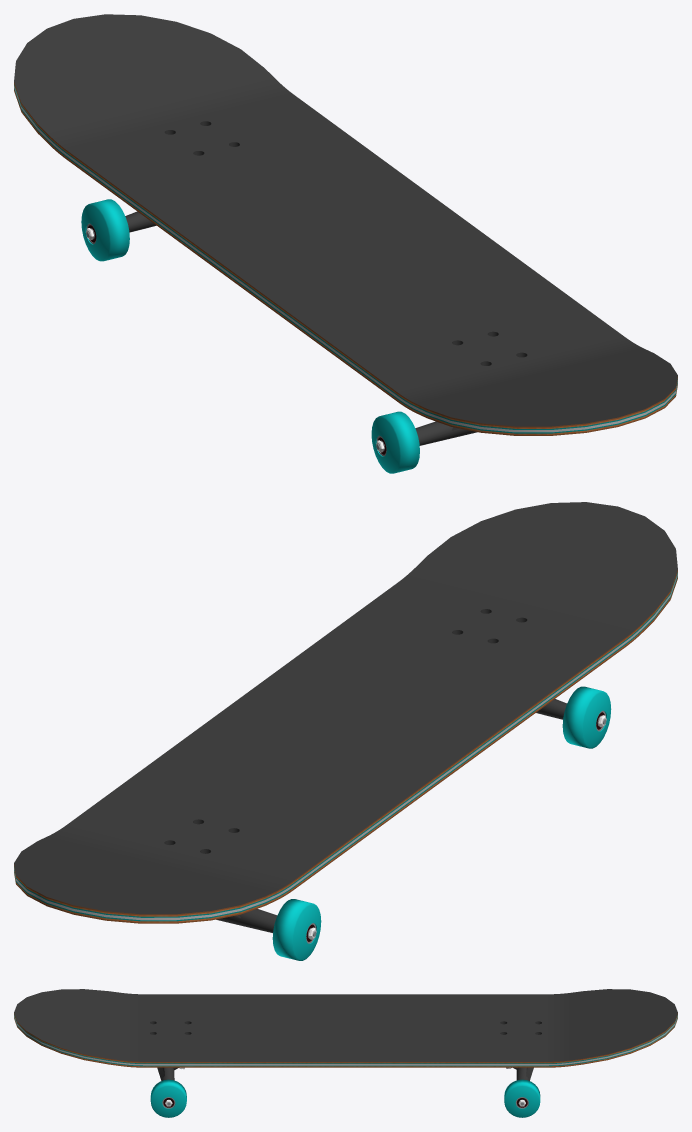
3 views of the same model, one above another, from view 1: azimuth 30°, elevation 25°; view 2: azimuth 150°, elevation 25°; view 3: azimuth 270°, elevation 25° (orthographic). The views are drawn at different scales.
Visible parts, largest first — view 1: Mesh1_Component_41_1_Component_42_1_Component_43_1_Model; view 2: Mesh1_Component_41_1_Component_42_1_Component_43_1_Model; view 3: Mesh1_Component_41_1_Component_42_1_Component_43_1_Model.
Boxes of the visible parts, x1,y1,x2,y2 form: Mesh1_Component_41_1_Component_42_1_Component_43_1_Model: (14,14,677,473); Mesh1_Component_41_1_Component_42_1_Component_43_1_Model: (14,502,677,960); Mesh1_Component_41_1_Component_42_1_Component_43_1_Model: (14,989,677,1117).
Bounding box in the file's own units: 32.08 × 16.39 × 133.
